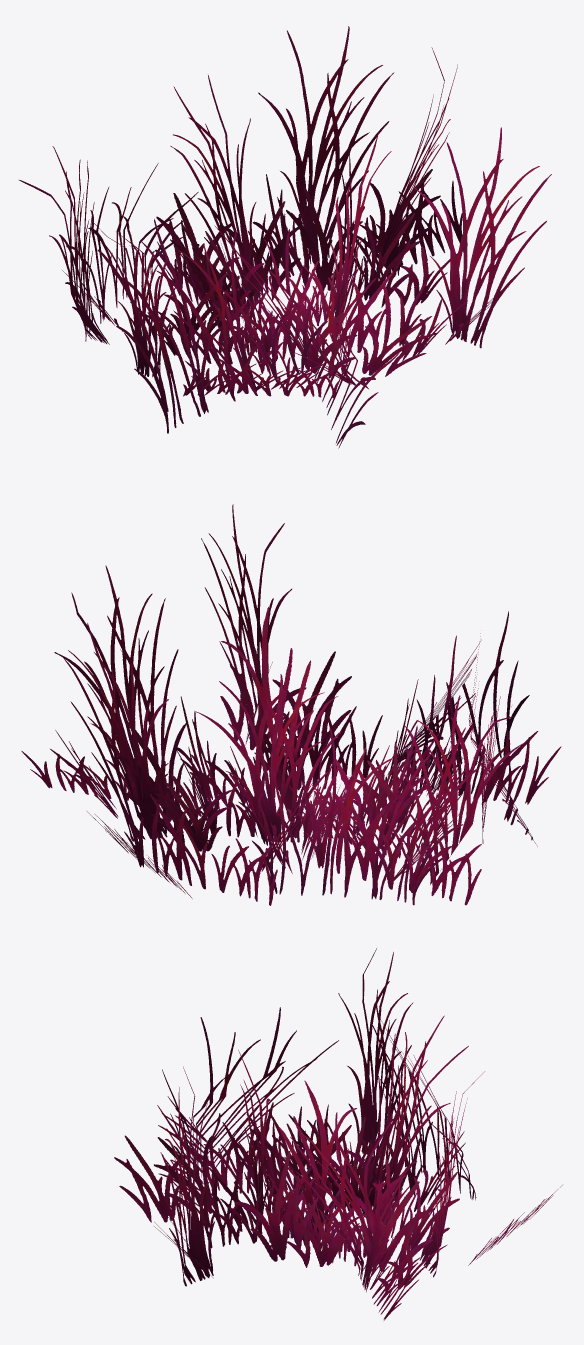
3 views of the same model, one above another, from view 1: azimuth 30°, elevation 25°; view 2: azimuth 150°, elevation 25°; view 3: azimuth 270°, elevation 25° (orthographic). The views are drawn at different scales.
Visible parts, largest first — view 1: SM_GF_GrassLong_02_LOD0; view 2: SM_GF_GrassLong_02_LOD0; view 3: SM_GF_GrassLong_02_LOD0.
Part boxes in pixels (bbox=[...]): SM_GF_GrassLong_02_LOD0: bbox=[19, 26, 551, 448]; SM_GF_GrassLong_02_LOD0: bbox=[21, 504, 561, 905]; SM_GF_GrassLong_02_LOD0: bbox=[114, 948, 562, 1320].
Bounding box in the file's own units: 1.19 × 0.6417 × 1.31.
1 material, 1 textured.
